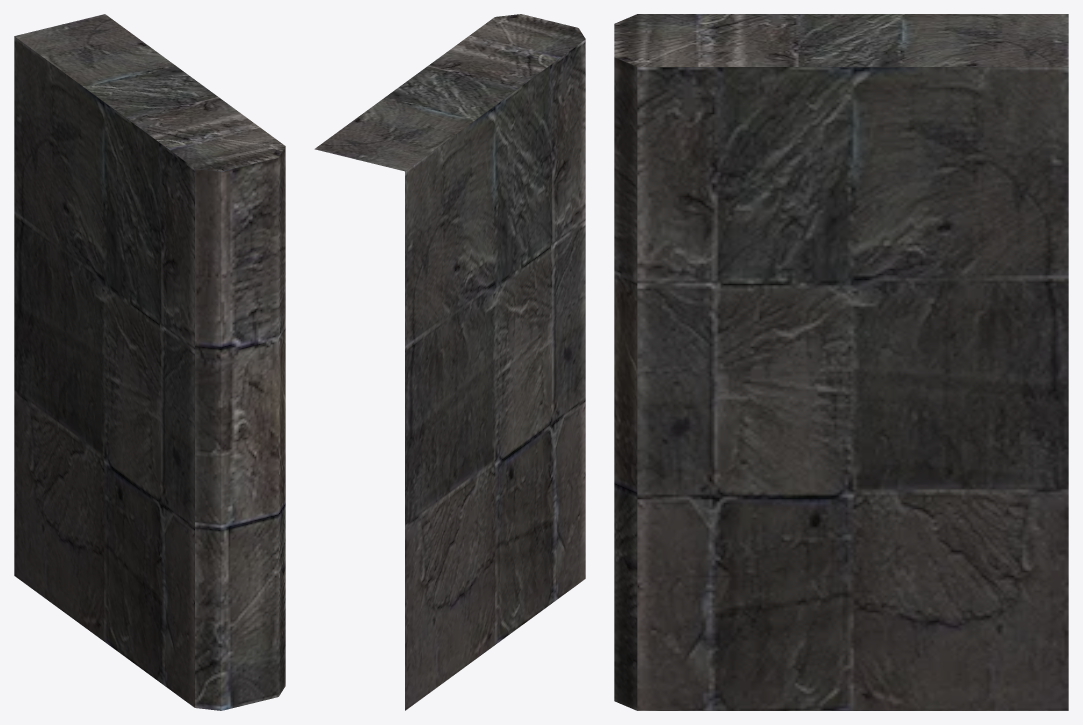
The picture shows the model from 3 angles, left to right: view 1: azimuth 30°, elevation 25°; view 2: azimuth 150°, elevation 25°; view 3: azimuth 270°, elevation 25°; orthographic projection. The views are drawn at different scales.
Visible parts, largest first — view 1: model_Object42; view 2: model_Object42; view 3: model_Object42.
Part boxes in pixels (left/top/right/bottom): model_Object42: left=14, top=14, right=285, bottom=710; model_Object42: left=314, top=14, right=585, bottom=710; model_Object42: left=614, top=14, right=1068, bottom=710.
Bounding box in the file's own units: 0.5921 × 3.36 × 2.15.
Materials: 1 (1 with a texture image).
